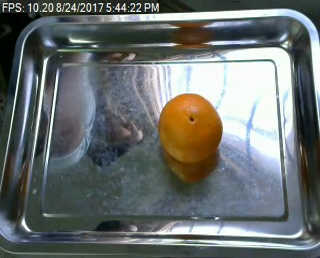Orange: (156, 92, 224, 164)
